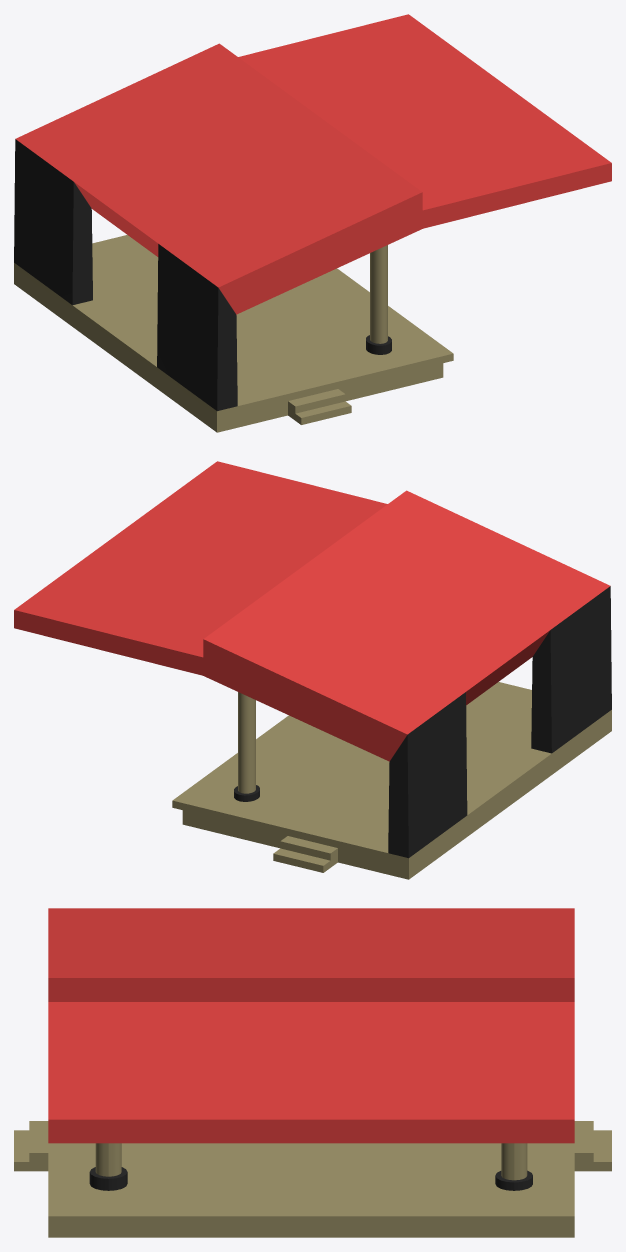
Rendered from TrainStation (2).fbx.
The picture shows the model from 3 angles, top to bottom: view 1: azimuth 30°, elevation 25°; view 2: azimuth 150°, elevation 25°; view 3: azimuth 270°, elevation 25°; orthographic projection. The views are drawn at different scales.
Parts seen in each view (by area): view 1: Cube.008; view 2: Cube.008; view 3: Cube.008.
Boxes of the visible parts, <box> form: Cube.008: <box>14,14,611,432</box>; Cube.008: <box>14,461,611,879</box>; Cube.008: <box>14,908,611,1237</box>.
Size of the model in its own units: 1536 by 708 by 1557.
